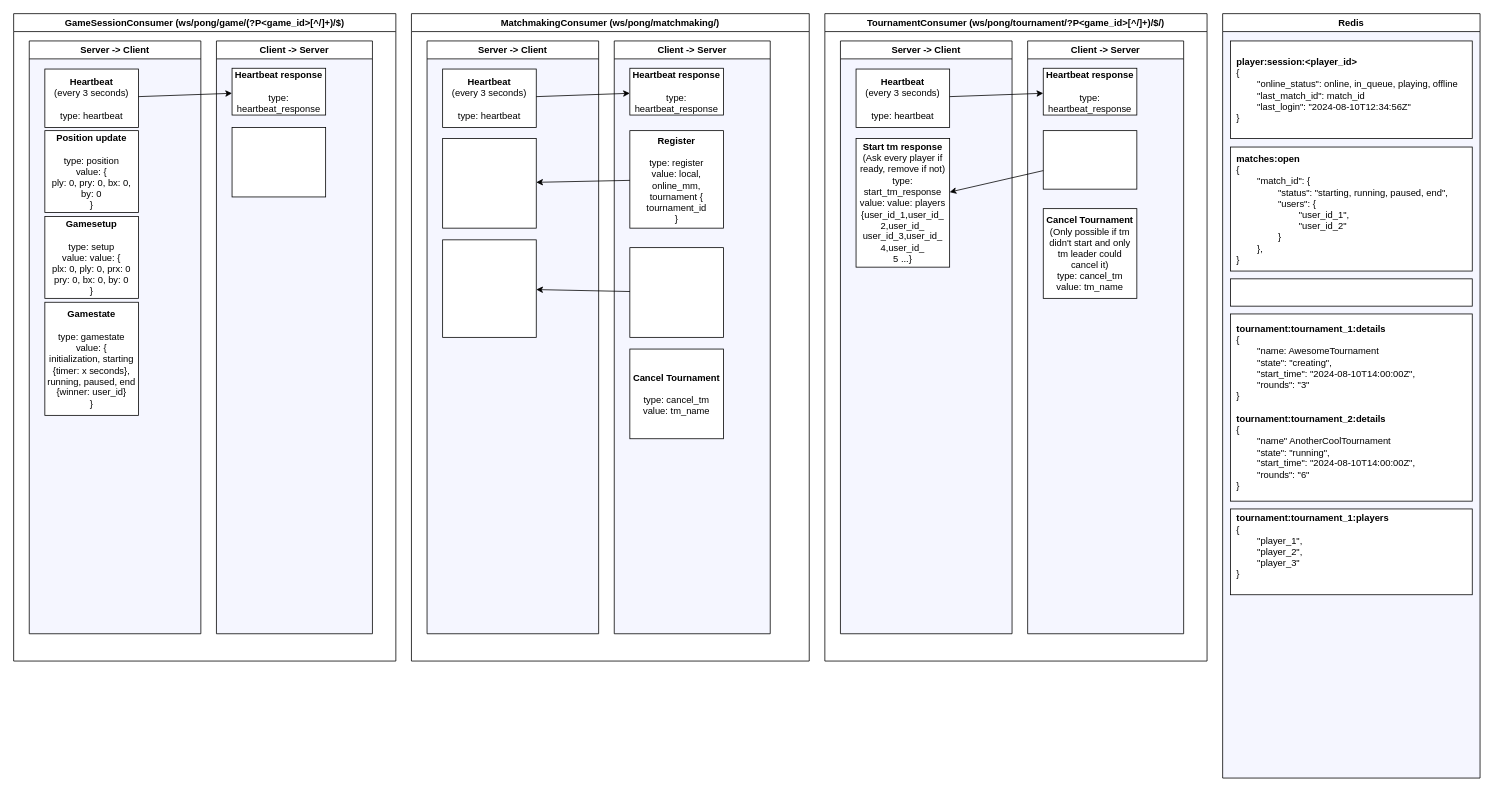
This 1494x792 diagram has some shape labels left out. Here are the shapes that lost their labels. From the top down, the box of each, then its label:
(231, 127, 326, 197): User input type: userinput player: 1 or 2 value: -1, 0, 1
(1042, 130, 1137, 189): Start tm type: start_tm
(442, 138, 536, 228): Register response type: register_response value: successful, failed { message }
(442, 239, 536, 337): Create Tournament response type: successful, failed { message }
(629, 247, 723, 337): Create Tournament type: create_tm value: tm_name
(1230, 278, 1472, 306): matchmaking_queue (list of elements (user_ids))
